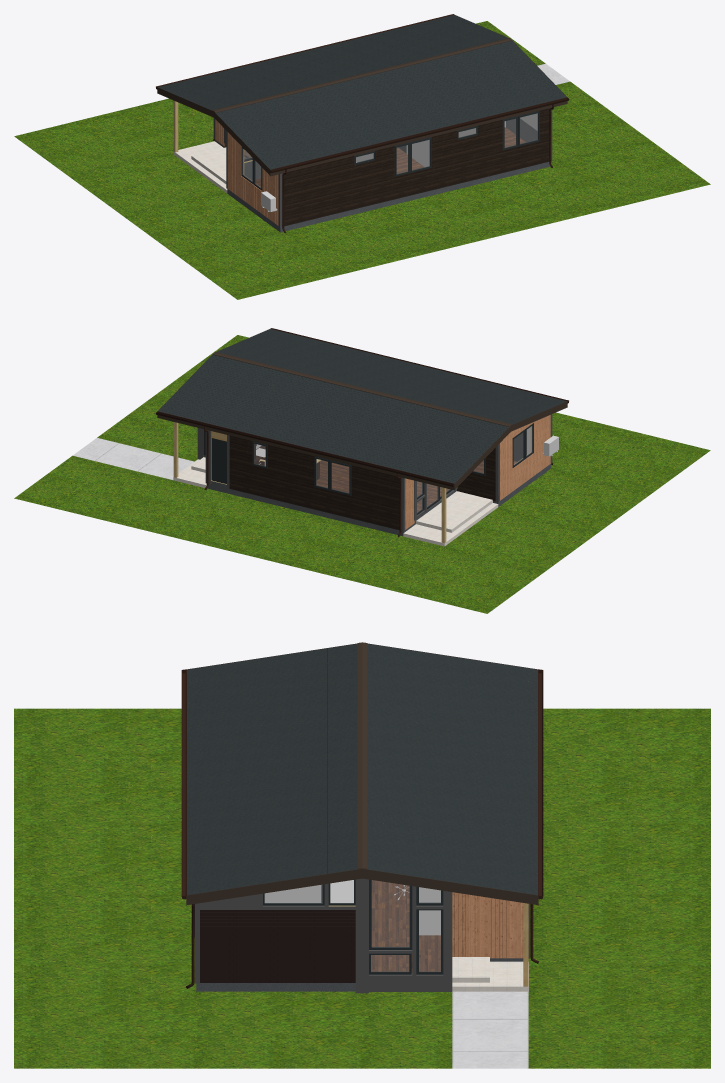
The model's file is Blazer_InkBuilt-01.glb.
3 renders of one model, top to bottom at view 1: azimuth 30°, elevation 25°; view 2: azimuth 150°, elevation 25°; view 3: azimuth 270°, elevation 25°, orthographic. The views are drawn at different scales.
Parts seen in each view (by area): view 1: ground, full_plank, full_plank.001, wall_rabat.003, walls, gutter, wall_halfhout_vertical_5, Plane.017, ridge, winC1.002, winC1.003, roof.001 (+5 smaller); view 2: ground, full_plank, full_plank.001, wall_rabat, Plane.017, wall_halfhout_vertical_5, walls, gutter, ridge, winC1.004, Plane.015, trims (+6 smaller); view 3: ground, full_plank, full_plank.001, bricks_7, wall_halfhout_vertical_1, trim_custom_windows.001, Plane.015, winT2.001, roof.002, gutter, ridge, Plane.016 (+9 smaller).
Boxes of the visible parts, <box> form: ground: <box>14,21,710,299</box>; full_plank: <box>158,15,566,169</box>; full_plank.001: <box>162,16,562,167</box>; wall_rabat.003: <box>282,108,549,226</box>; walls: <box>214,113,550,232</box>; gutter: <box>156,14,568,172</box>; wall_halfhout_vertical_5: <box>228,132,278,225</box>; Plane.017: <box>173,141,227,193</box>; ridge: <box>212,38,512,112</box>; winC1.002: <box>394,137,431,176</box>; winC1.003: <box>502,111,539,150</box>; roof.001: <box>157,87,567,176</box>; ground: <box>14,335,710,613</box>; full_plank: <box>158,329,566,483</box>; full_plank.001: <box>162,330,562,481</box>; wall_rabat: <box>229,435,401,530</box>; Plane.017: <box>403,491,498,546</box>; wall_halfhout_vertical_5: <box>500,415,550,500</box>; walls: <box>203,426,551,536</box>; gutter: <box>156,328,568,486</box>; ridge: <box>212,352,512,426</box>; winC1.004: <box>314,456,351,495</box>; Plane.015: <box>316,460,517,512</box>; trims: <box>205,414,552,531</box>; ground: <box>14,708,710,1068</box>; full_plank: <box>187,644,537,895</box>; full_plank.001: <box>191,646,533,892</box>; bricks_7: <box>200,910,355,982</box>; wall_halfhout_vertical_1: <box>452,892,523,958</box>; trim_custom_windows.001: <box>200,883,452,991</box>; Plane.015: <box>371,880,440,972</box>; winT2.001: <box>369,879,412,949</box>; roof.002: <box>187,643,537,901</box>; gutter: <box>181,669,543,895</box>; ridge: <box>357,642,367,869</box>; Plane.016: <box>452,957,528,991</box>.
Bounding box in the file's own units: 23.39 × 4.04 × 19.13.
Materials: 23 (10 with a texture image).
